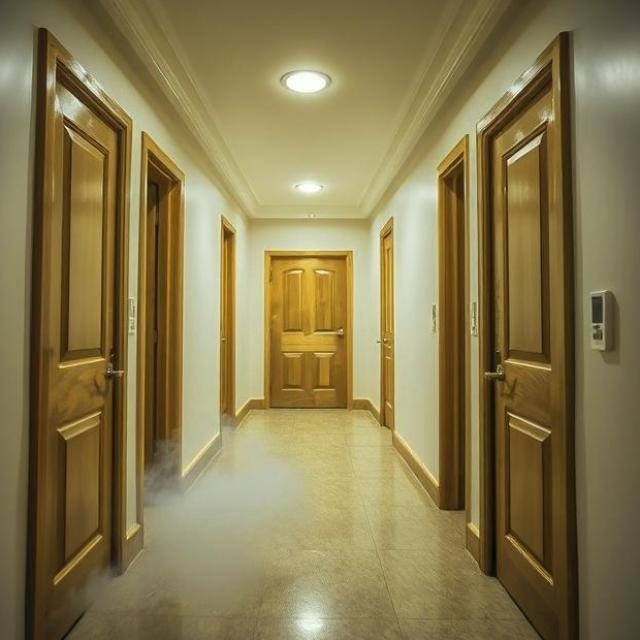fire: (76, 411, 310, 616)
